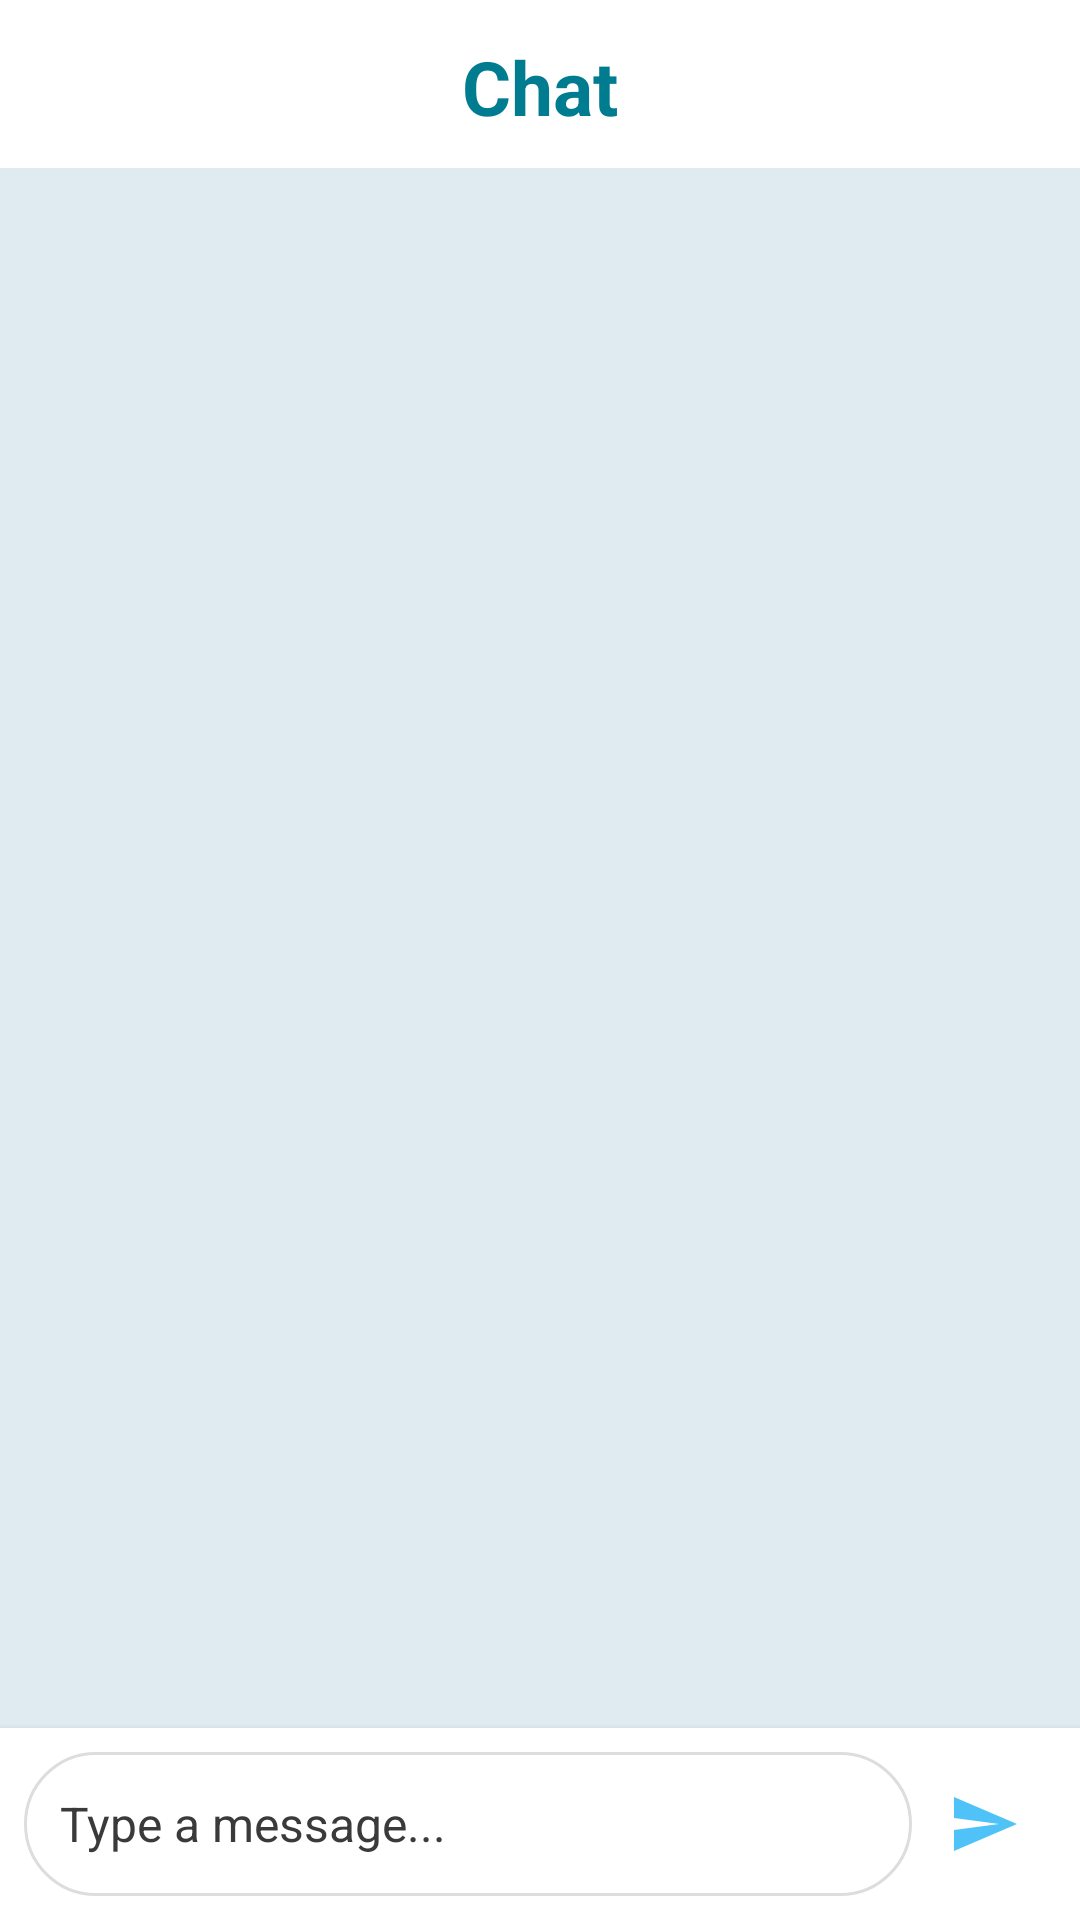

Icon bounding boxes for this 1080 × 1920 phone screenshot, format [x1, y1, x2, y2]:
Send Message: [954, 1797, 1017, 1851]
